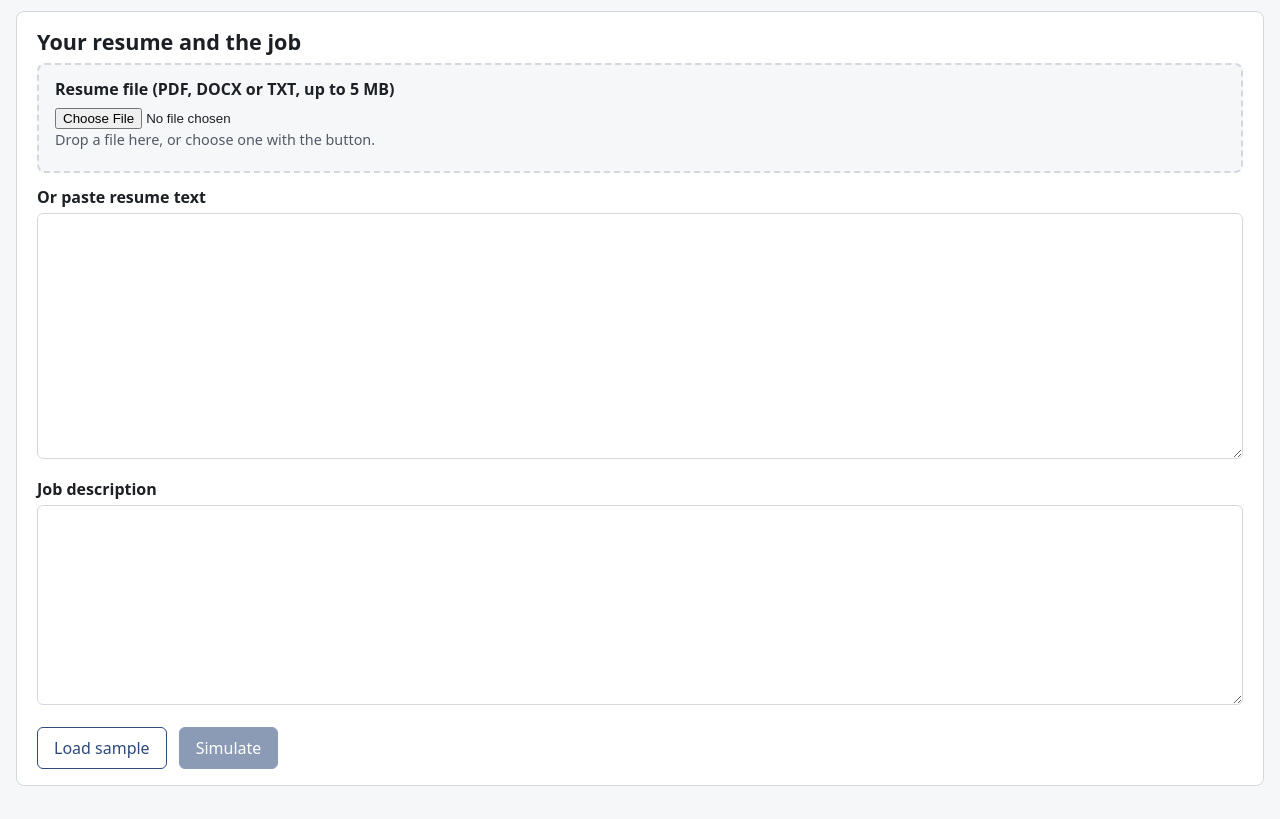
Scenario: end to end (criteria 3, 5, 7) › Load sample + Simulate renders 8 real cards and an 8-entry ranking
This screenshot has width=1280, height=819.
Later steps or results of the test are not shown.
(page scrolled)
Click the button "Load sample" at (102, 748), box [37,727,167,769]
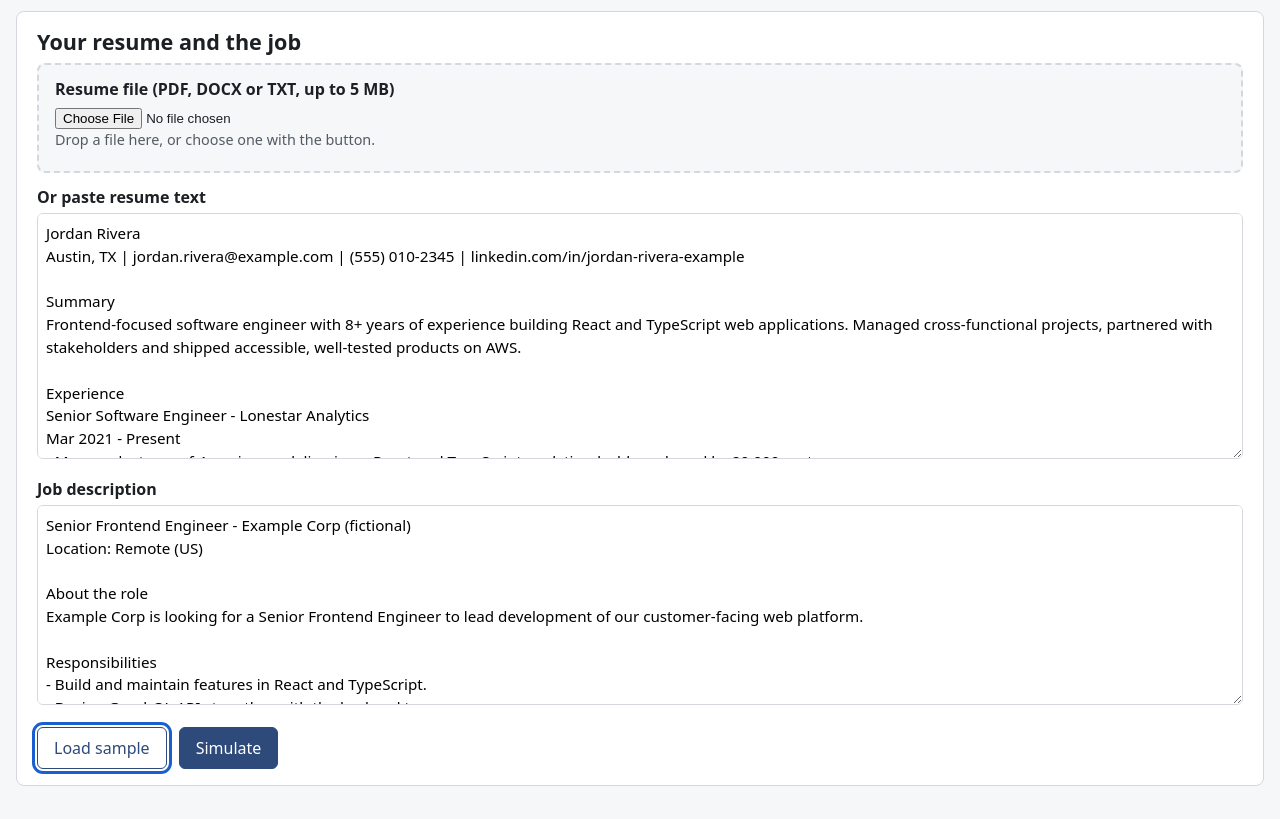
Click the button "Simulate" at (228, 748), box [179,727,278,769]
(page scrolled)
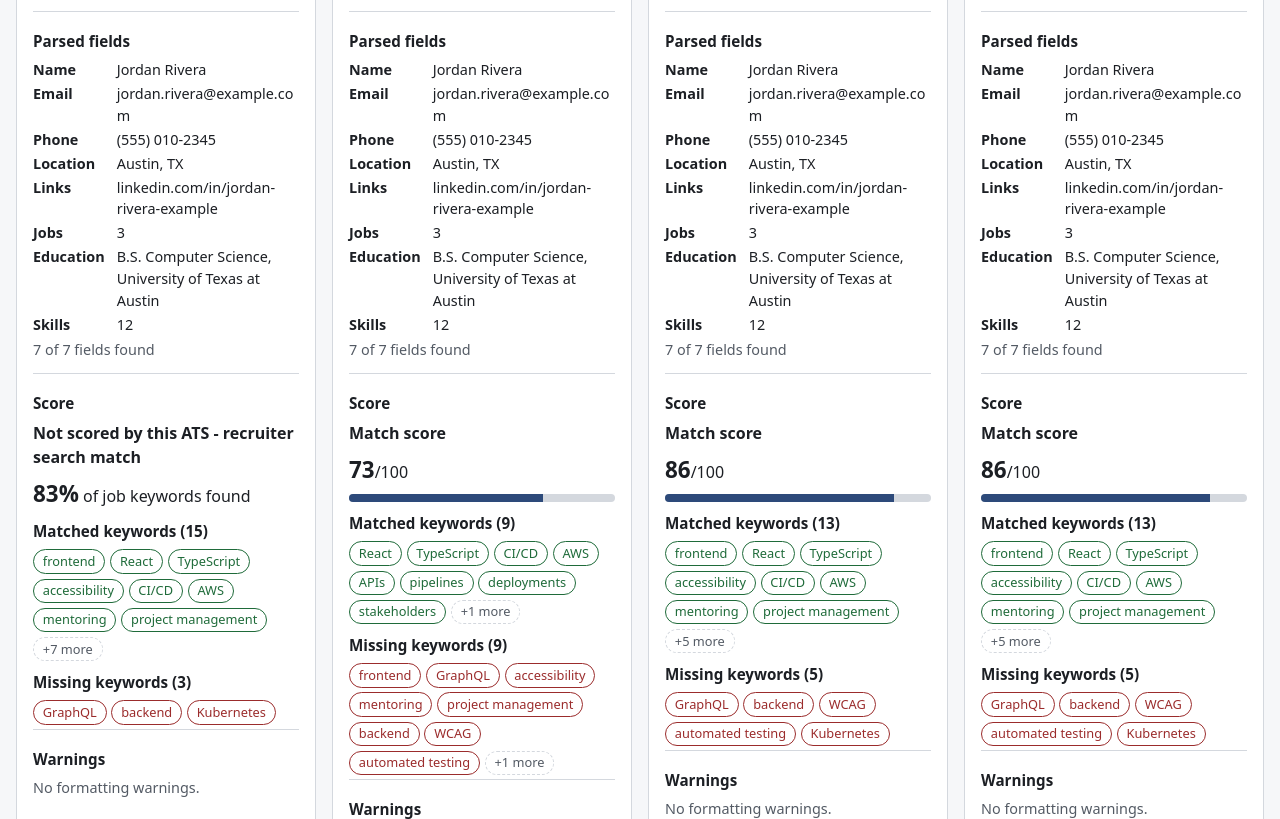
Expected: the text "Not scored by this ATS - recruiter search match" is shown, [33,421,299,469]
